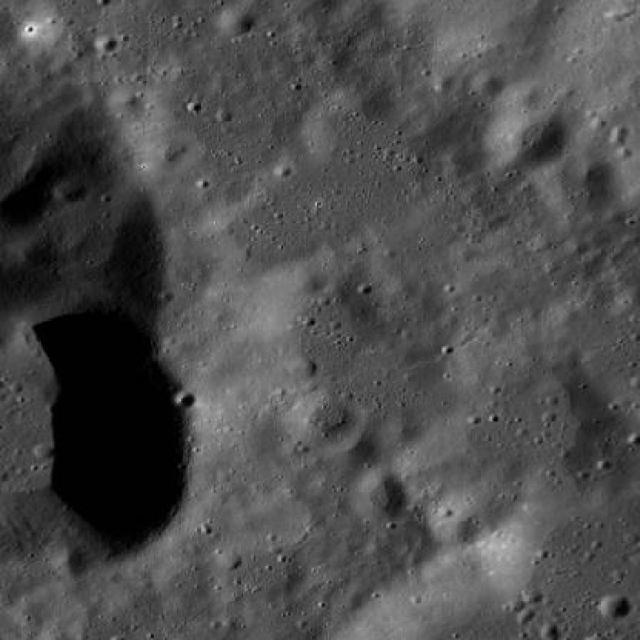crater: (0, 337, 198, 571), (386, 342, 616, 522), (257, 257, 385, 357), (212, 186, 332, 280), (303, 84, 406, 164), (210, 534, 302, 606), (483, 106, 569, 172), (539, 152, 621, 214), (280, 388, 354, 443), (156, 552, 217, 600), (352, 471, 412, 518), (322, 424, 378, 468), (433, 510, 481, 547), (136, 137, 184, 174), (500, 83, 538, 112), (108, 90, 146, 118), (218, 8, 255, 36), (56, 552, 90, 578), (318, 46, 352, 72), (389, 416, 422, 442), (297, 266, 328, 292), (468, 72, 501, 96), (284, 354, 316, 377), (601, 594, 630, 617), (56, 180, 84, 203), (577, 160, 606, 182), (237, 0, 274, 17), (566, 237, 592, 257), (67, 36, 93, 56), (452, 242, 476, 262), (218, 550, 242, 568), (428, 74, 452, 91), (176, 390, 198, 408), (96, 36, 119, 52), (1, 1, 2, 2)
